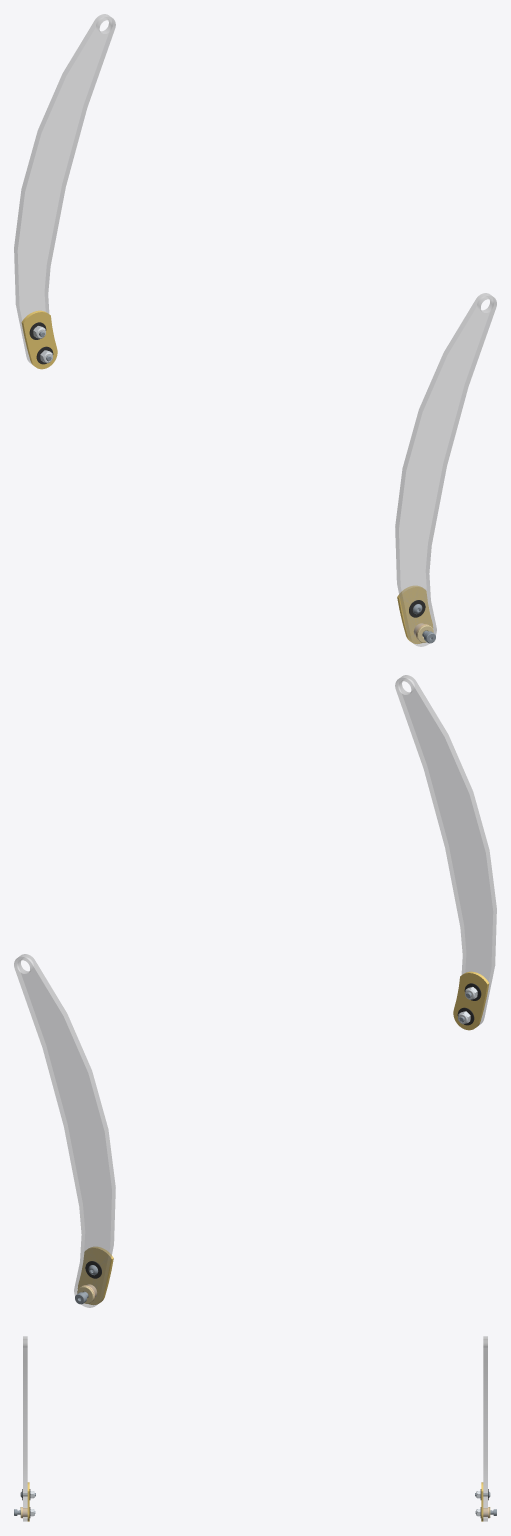
3 views of the same model, one above another, from view 1: azimuth 30°, elevation 25°; view 2: azimuth 150°, elevation 25°; view 3: azimuth 270°, elevation 25° (orthographic). The views are drawn at different scales.
Visible parts, largest first — view 1: Mini Link (×2), Small Metal Reinforcement (×2); view 2: Mini Link (×2), Small Metal Reinforcement (×2); view 3: Mini Link (×2).
Boxes of the visible parts, box(x1,y1,x2,y2) form: Mini Link (×2): box(14, 14, 496, 646); Small Metal Reinforcement (×2): box(21, 310, 433, 643); Mini Link (×2): box(14, 675, 496, 1307); Small Metal Reinforcement (×2): box(77, 971, 489, 1305); Mini Link (×2): box(23, 1336, 487, 1521).
Size of the model in its own units: 0.0963 by 0.3141 by 0.6795.
